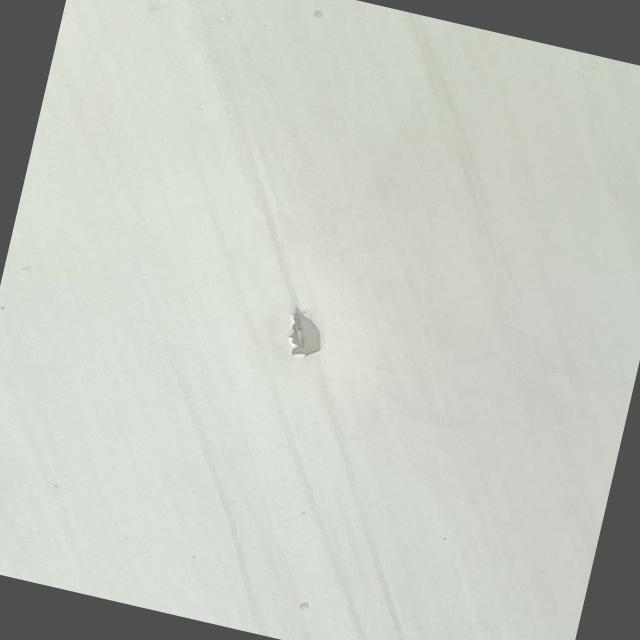crack: (287, 299, 356, 368)
